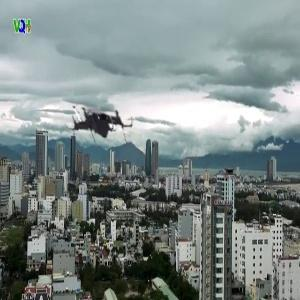drone: (62, 87, 136, 161)
